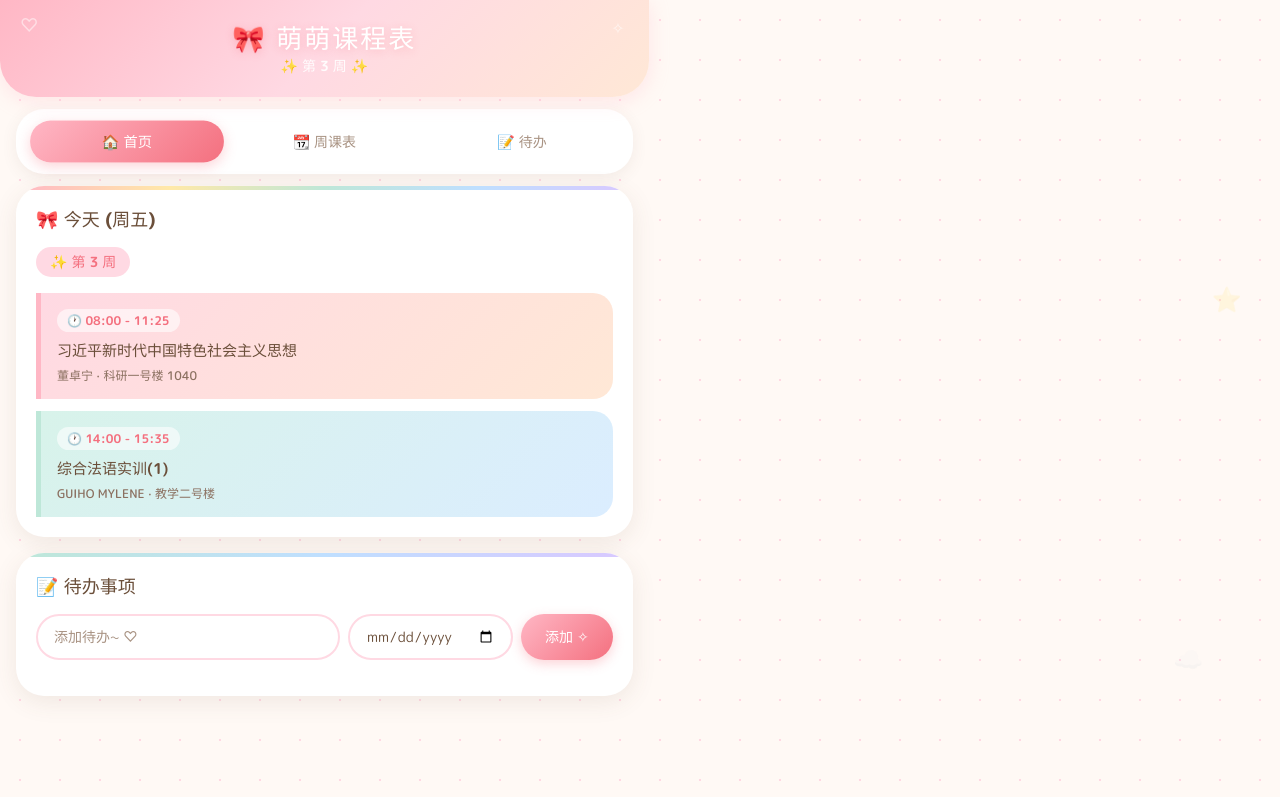
Test: Week Navigation › should increment week when clicking next
Click the button "📆 周课表". click: point(324, 142)
box: [230,121,419,162]
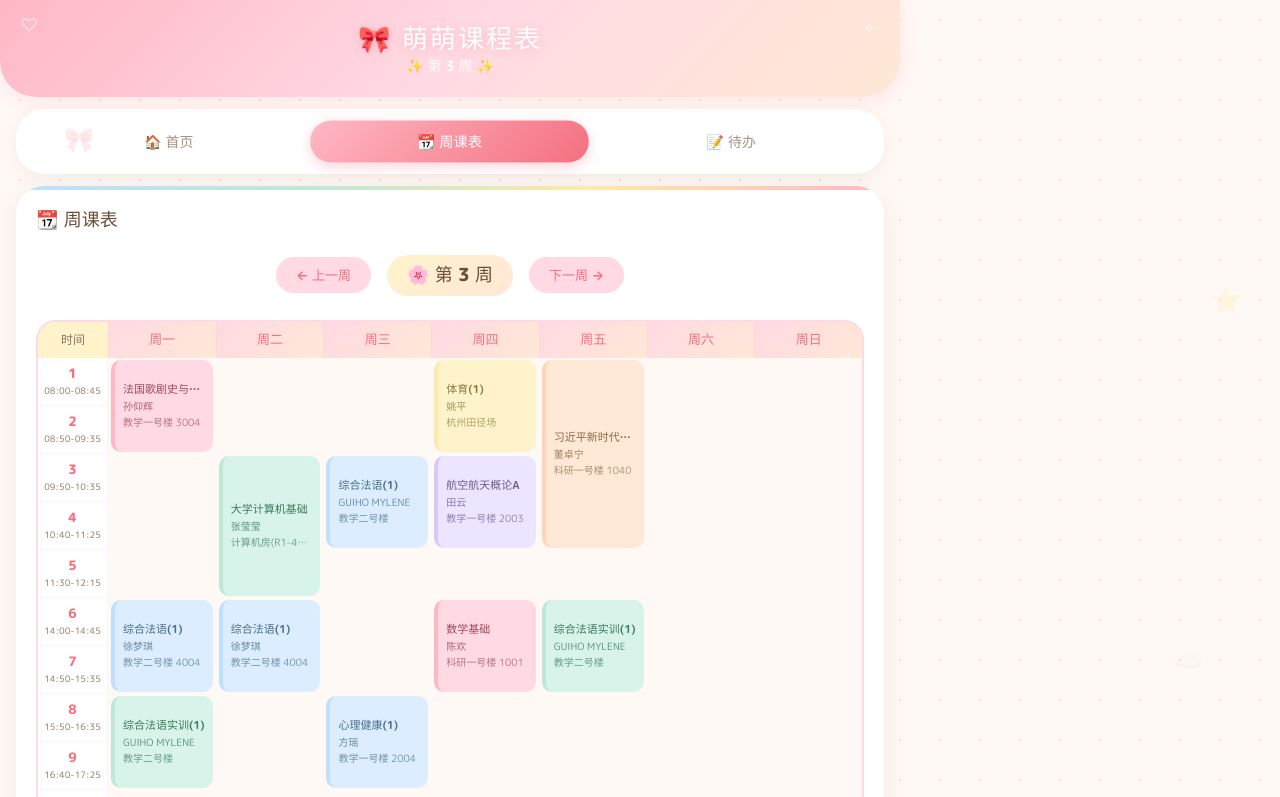
Click the button "下一周 →". click: point(576, 275)
box: [529,257,624,293]
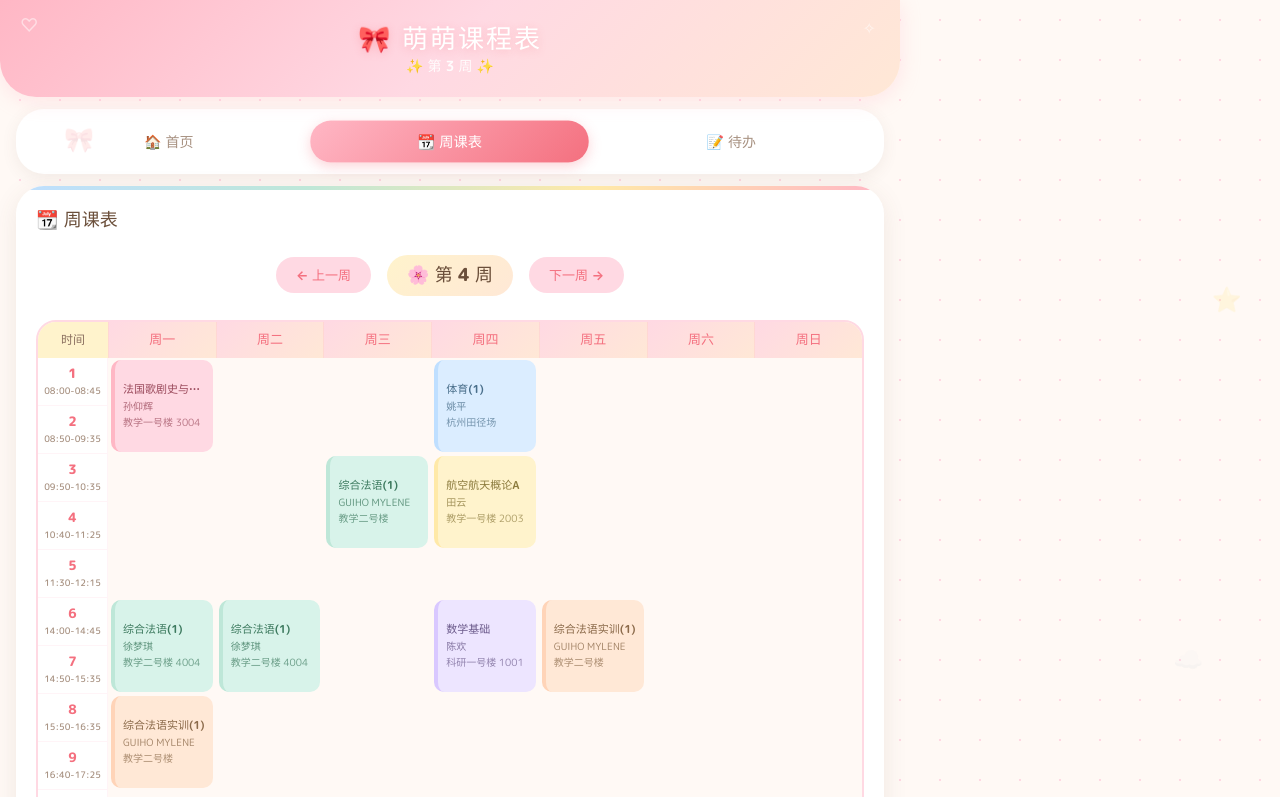
Now the text "🌸 第 4 周" is shown, box [387,255,513,296]
